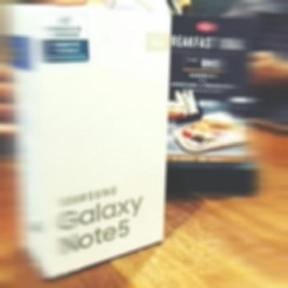box: (7, 0, 181, 278)
